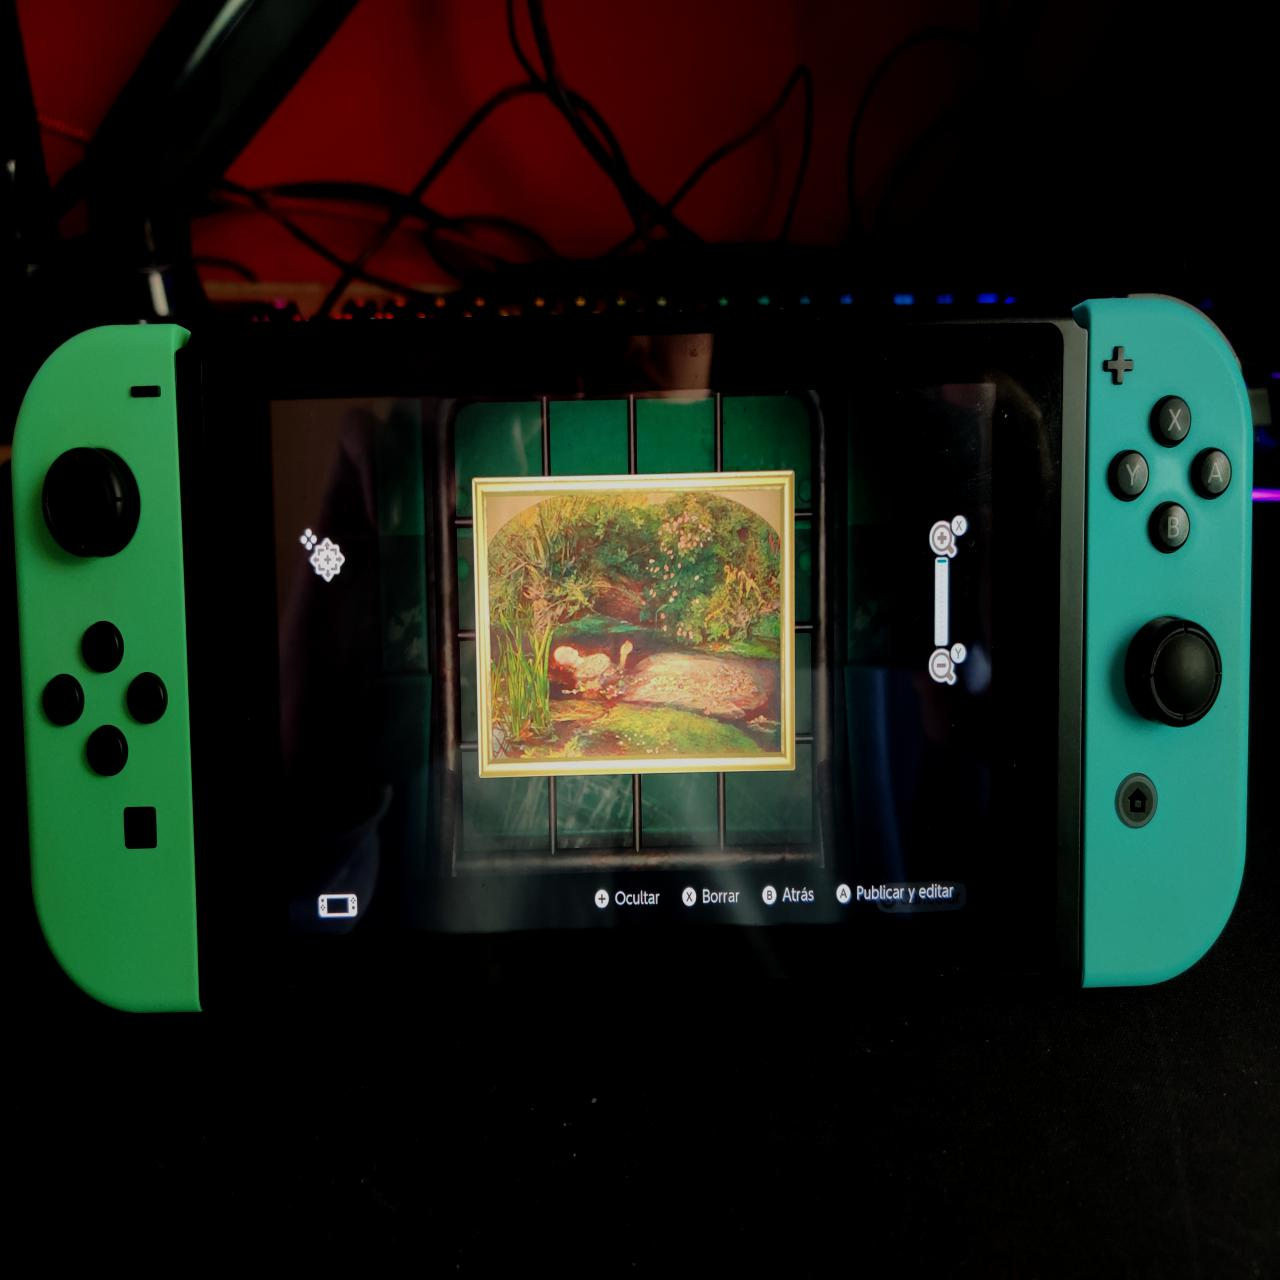Ophelia: (486, 492, 784, 755)
